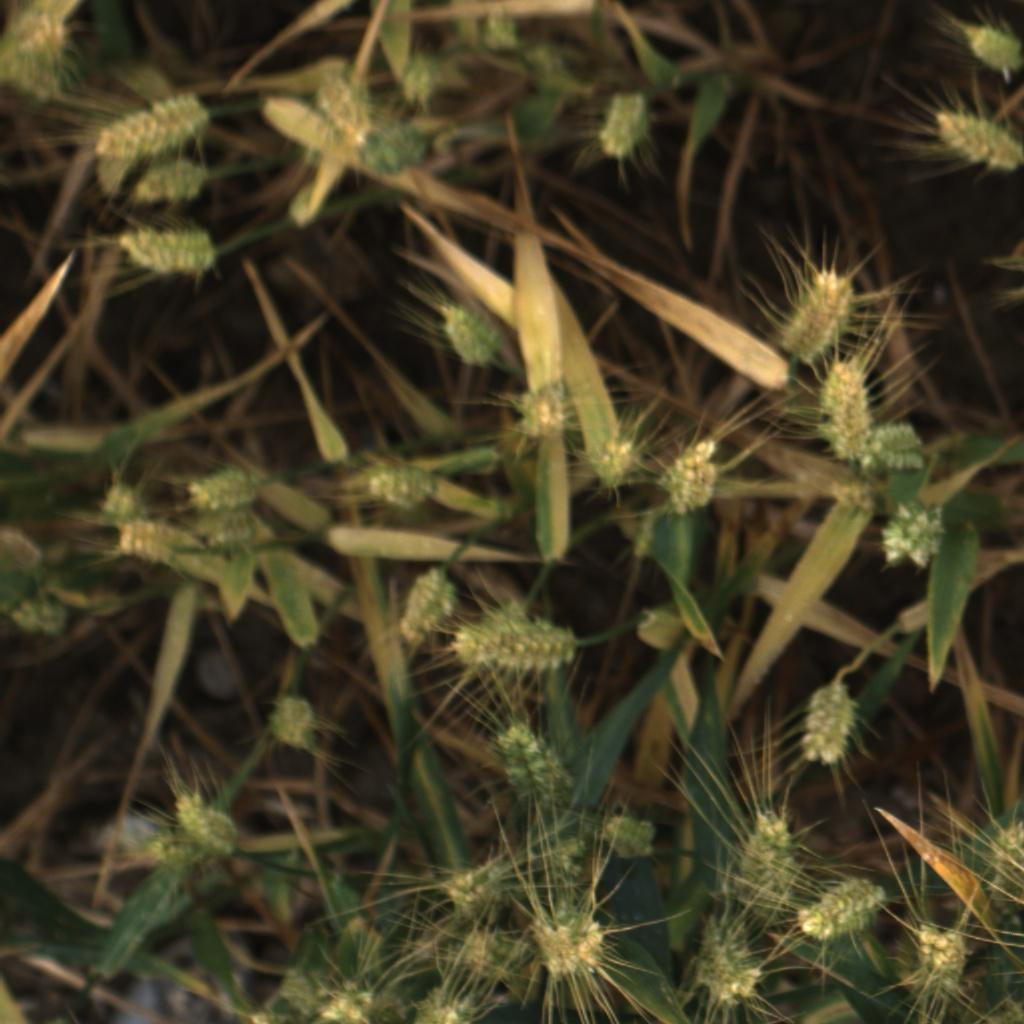0-0: (147, 787, 242, 877), (453, 609, 584, 673), (776, 262, 859, 362), (0, 0, 77, 102), (814, 353, 882, 465), (486, 716, 573, 802), (96, 90, 206, 156), (933, 103, 1024, 178), (791, 875, 887, 946), (731, 808, 801, 905), (695, 918, 769, 1008), (115, 221, 218, 284), (427, 292, 507, 373), (871, 499, 955, 576), (528, 904, 609, 981), (794, 685, 862, 769), (390, 567, 457, 648), (856, 417, 933, 486), (660, 434, 720, 518), (594, 83, 653, 168), (503, 379, 573, 449), (315, 68, 373, 152), (7, 582, 73, 652), (436, 859, 510, 921), (462, 926, 532, 990), (128, 156, 208, 210), (975, 817, 1024, 905), (360, 453, 433, 512), (393, 44, 453, 113), (917, 918, 970, 996), (956, 20, 1024, 79), (358, 121, 428, 178), (585, 430, 642, 494), (264, 692, 321, 756), (183, 507, 257, 556), (319, 969, 382, 1024), (179, 465, 254, 510), (113, 514, 179, 565), (89, 476, 150, 529), (600, 812, 657, 864), (472, 6, 527, 56), (541, 833, 583, 897), (405, 988, 473, 1024), (821, 480, 874, 519)
